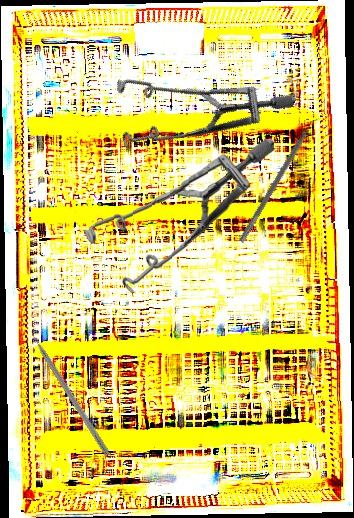Chopper: (25, 321, 118, 457)
Spatula Surgical: (238, 113, 322, 247)
Speculum: (92, 18, 297, 209), (79, 138, 282, 296)
